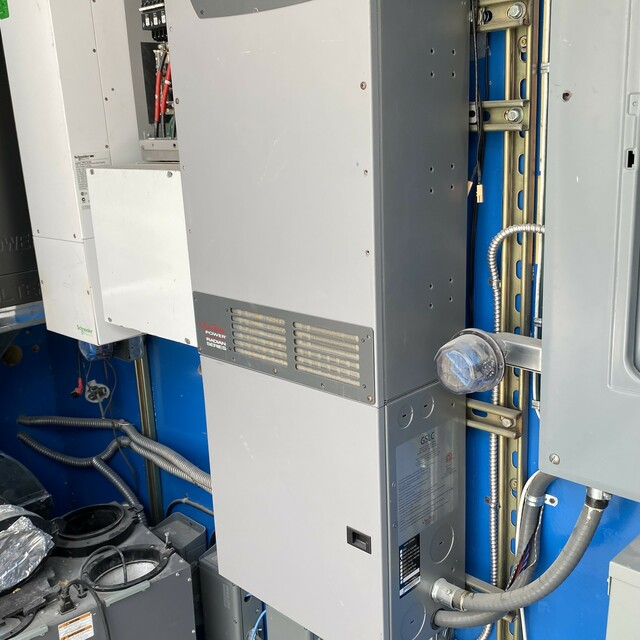inverter: (163, 1, 488, 635)
